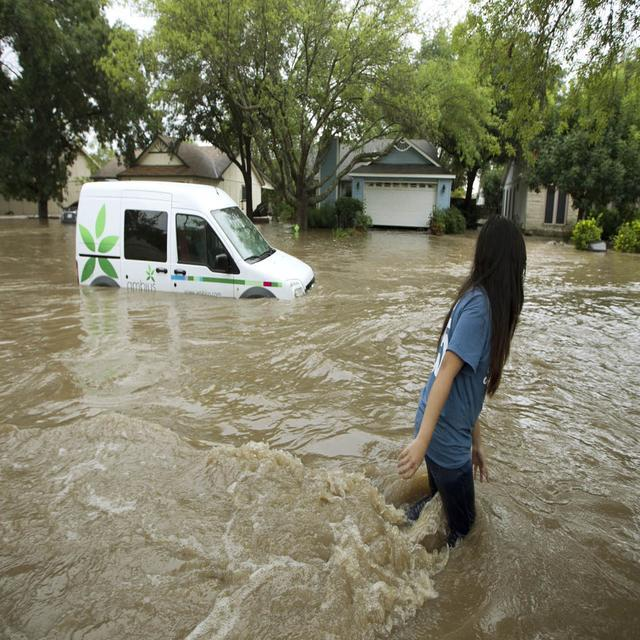Car-RiskLevel3: (70, 172, 325, 306)
Person-RiskLevel2: (362, 216, 560, 564)
